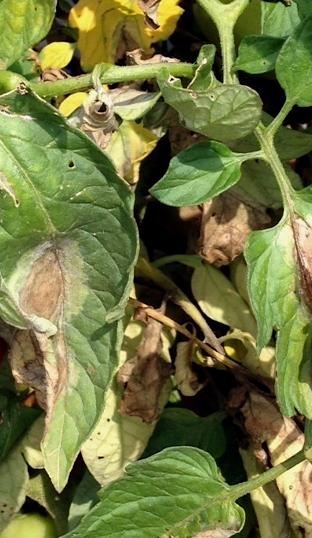Tomato leaf late blight: (0, 63, 132, 490), (26, 445, 264, 538), (251, 170, 312, 421), (0, 0, 76, 116)
